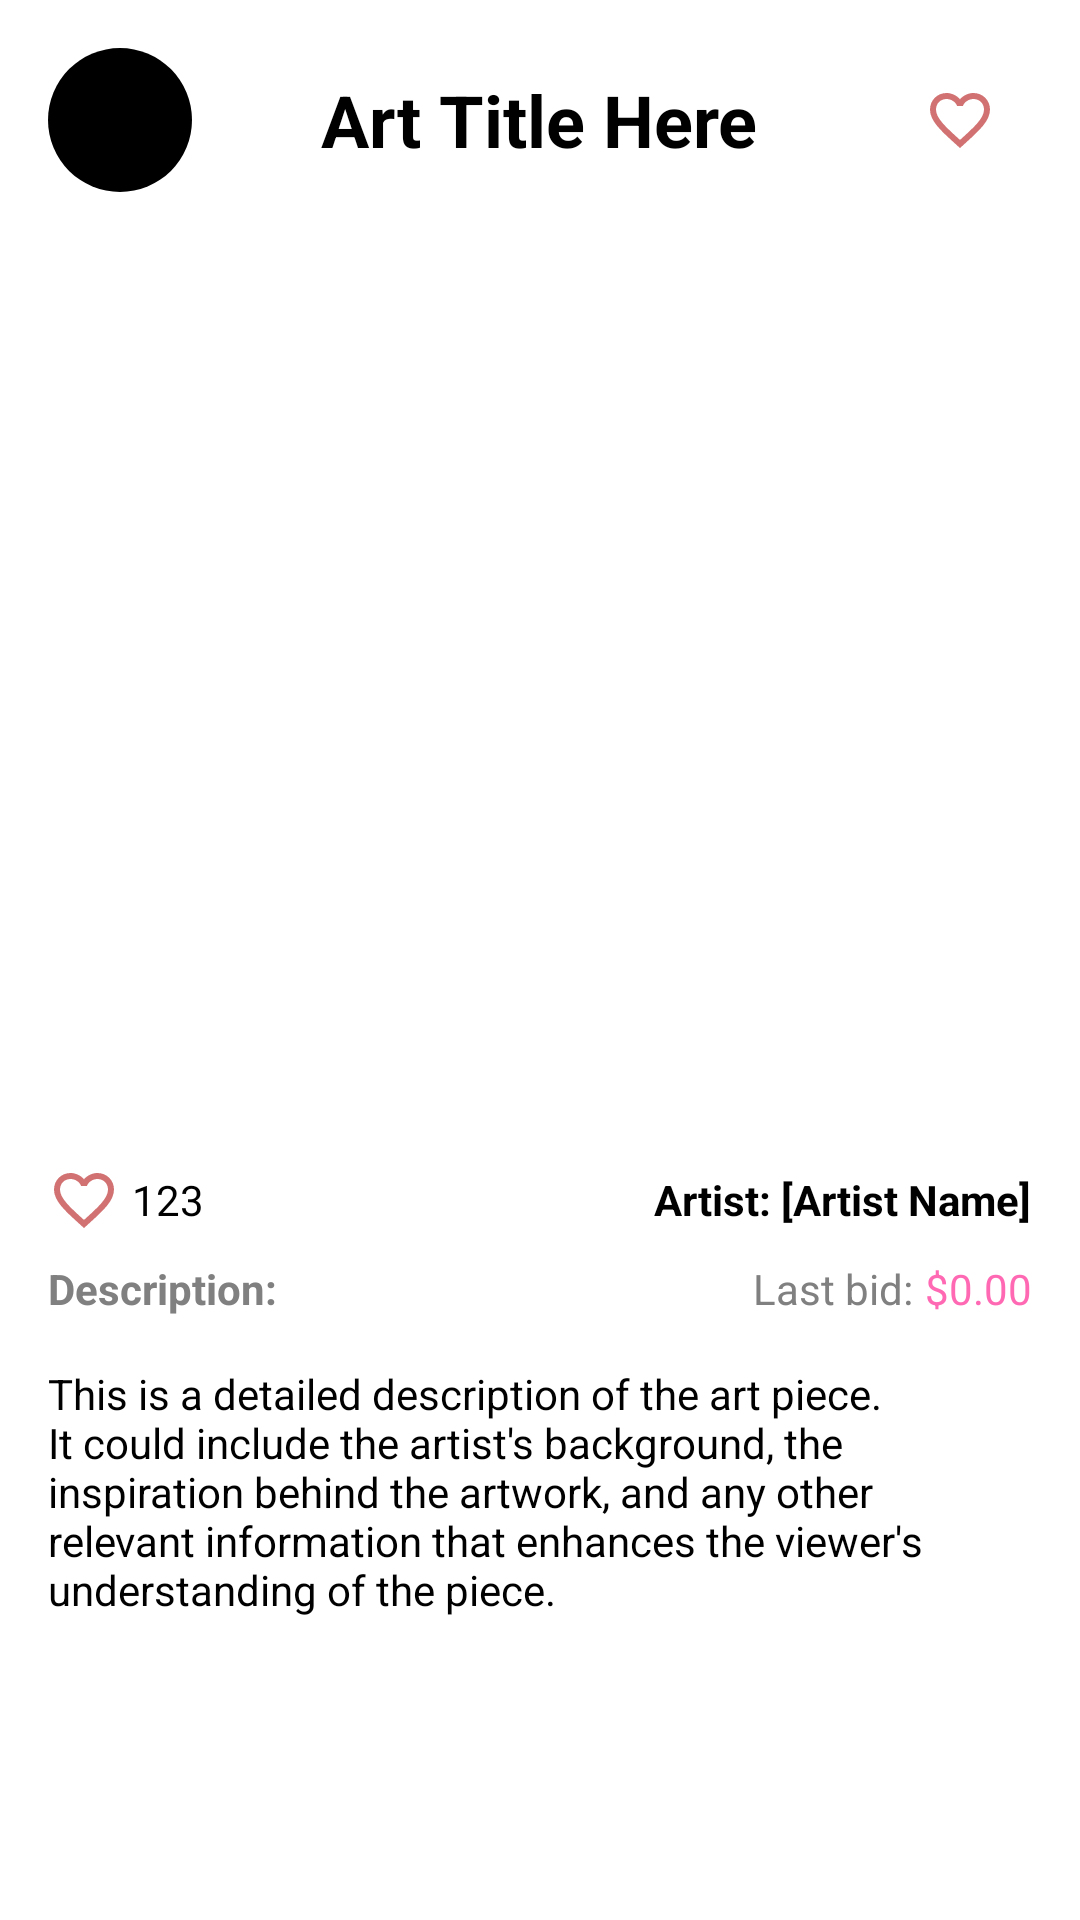

Where icons sit on this 1080×1920 app screen, as bbox=(x1, y1, x2, y2):
Favorite: bbox=(930, 93, 990, 148)
Like: bbox=(54, 1173, 114, 1228)
